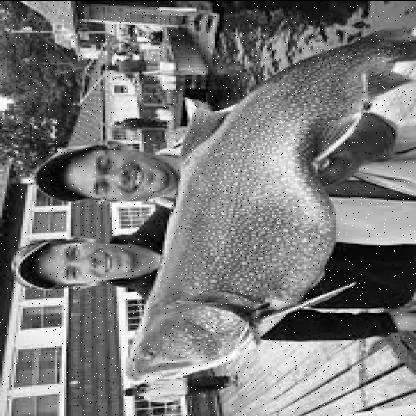fish: (123, 24, 414, 386)
